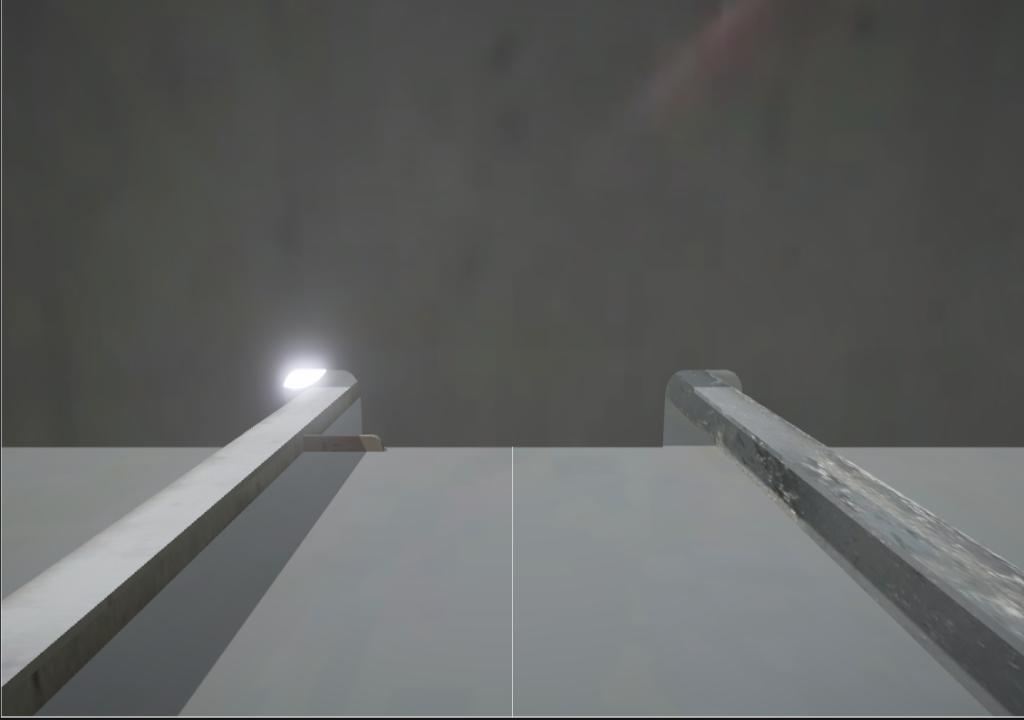fillet_yong_jeop_jang: (385, 441, 670, 452)
plate_CP05: (303, 434, 385, 454)
